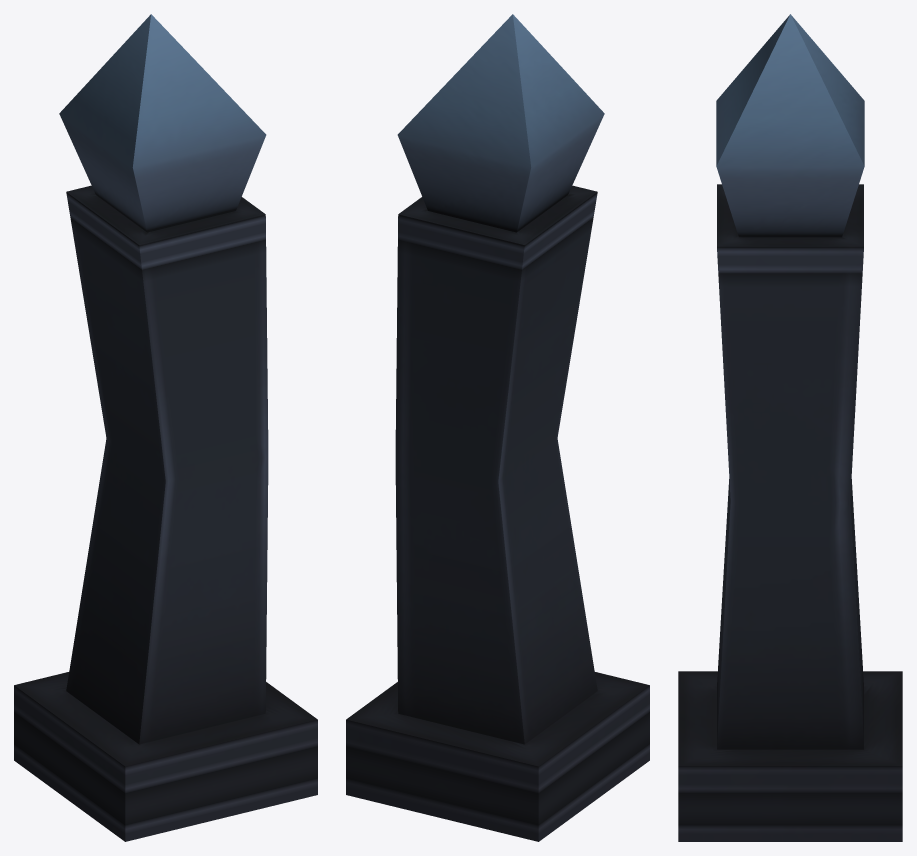
Rendered from GraveYard_Fence_Pole.FBX.
3 renders of one model, left to right at view 1: azimuth 30°, elevation 25°; view 2: azimuth 150°, elevation 25°; view 3: azimuth 270°, elevation 25°, orthographic.
Visible parts, largest first — view 1: GraveYard_Fence_Pole; view 2: GraveYard_Fence_Pole; view 3: GraveYard_Fence_Pole.
Boxes of the visible parts, x1,y1,x2,y2 form: GraveYard_Fence_Pole: (14,14,317,841); GraveYard_Fence_Pole: (346,14,649,841); GraveYard_Fence_Pole: (678,14,902,841).
Bounding box in the file's own units: 19.27 × 73.35 × 19.27.
